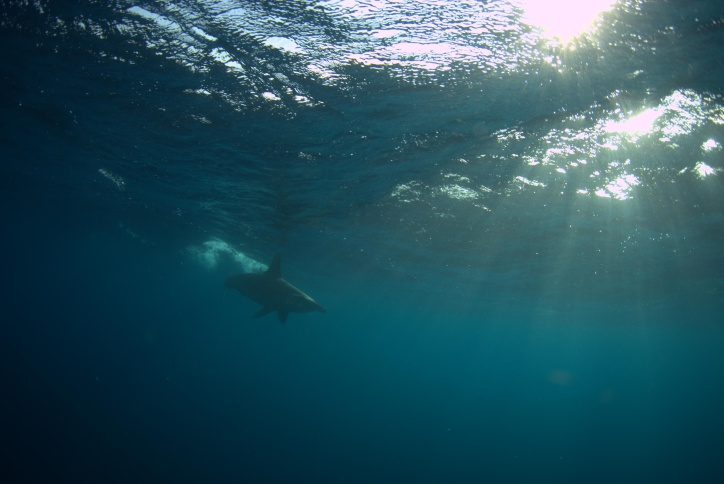Hammer: (210, 253, 326, 330)
